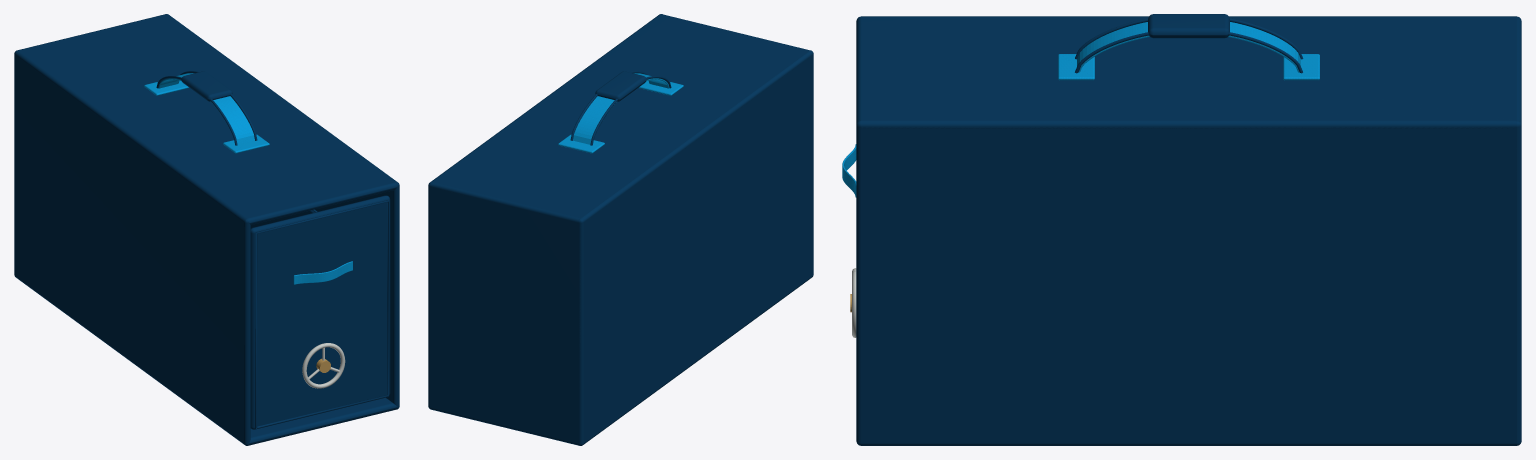
Rendered from wave-volume-5-storage.glb.
3 views of the same model, side by side, from view 1: azimuth 30°, elevation 25°; view 2: azimuth 150°, elevation 25°; view 3: azimuth 270°, elevation 25° (orthographic). The views are drawn at different scales.
Parts seen in each view (by area): view 1: Cabinet_side, Cabinet_top, Drawer_front, Cabinet_side.001, Cabinet_bottom, Front_sewn_edge, Carry_handle_webbing, Carry_handle_padded_grip, Handwheel_rim, Drawer_webbing_pull, Cabinet_back, Carry_handle_anchor; view 2: Cabinet_side, Cabinet_back, Cabinet_top, Carry_handle_webbing, Carry_handle_padded_grip, Cabinet_side.001, Carry_handle_anchor.001; view 3: Cabinet_side.001, Cabinet_top, Carry_handle_padded_grip, Cabinet_back, Carry_handle_webbing, Carry_handle_anchor, Carry_handle_anchor.001, Carry_handle_binding.001, Cabinet_bottom.
Part boxes in pixels (x1=…): Cabinet_side: x1=15, y1=50, x2=250, y2=445; Cabinet_top: x1=15, y1=14, x2=397, y2=224; Drawer_front: x1=250, y1=195, x2=390, y2=429; Cabinet_side.001: x1=166, y1=14, x2=399, y2=409; Cabinet_bottom: x1=15, y1=275, x2=397, y2=445; Front_sewn_edge: x1=255, y1=200, x2=389, y2=428; Carry_handle_webbing: x1=158, y1=73, x2=254, y2=144; Carry_handle_padded_grip: x1=181, y1=71, x2=232, y2=101; Handwheel_rim: x1=302, y1=343, x2=345, y2=388; Drawer_webbing_pull: x1=293, y1=261, x2=352, y2=284; Cabinet_back: x1=14, y1=14, x2=166, y2=275; Carry_handle_anchor: x1=223, y1=134, x2=269, y2=153; Cabinet_side: x1=579, y1=50, x2=813, y2=445; Cabinet_back: x1=428, y1=182, x2=583, y2=445; Cabinet_top: x1=432, y1=14, x2=812, y2=218; Carry_handle_webbing: x1=573, y1=73, x2=669, y2=144; Carry_handle_padded_grip: x1=595, y1=71, x2=646, y2=101; Cabinet_side.001: x1=428, y1=14, x2=661, y2=409; Carry_handle_anchor.001: x1=558, y1=134, x2=604, y2=153; Cabinet_side.001: x1=856, y1=120, x2=1521, y2=445; Cabinet_top: x1=856, y1=17, x2=1516, y2=128; Carry_handle_padded_grip: x1=1148, y1=14, x2=1229, y2=38; Cabinet_back: x1=1516, y1=16, x2=1521, y2=445; Carry_handle_webbing: x1=1077, y1=22, x2=1300, y2=72; Carry_handle_anchor: x1=1058, y1=54, x2=1094, y2=80; Carry_handle_anchor.001: x1=1283, y1=54, x2=1319, y2=80; Carry_handle_binding.001: x1=1075, y1=32, x2=1302, y2=73; Cabinet_bottom: x1=862, y1=442, x2=1515, y2=442.
Size of what is drawn, in the model's own units: 0.127 by 0.204 by 0.3372.
5 materials, 3 textured.
